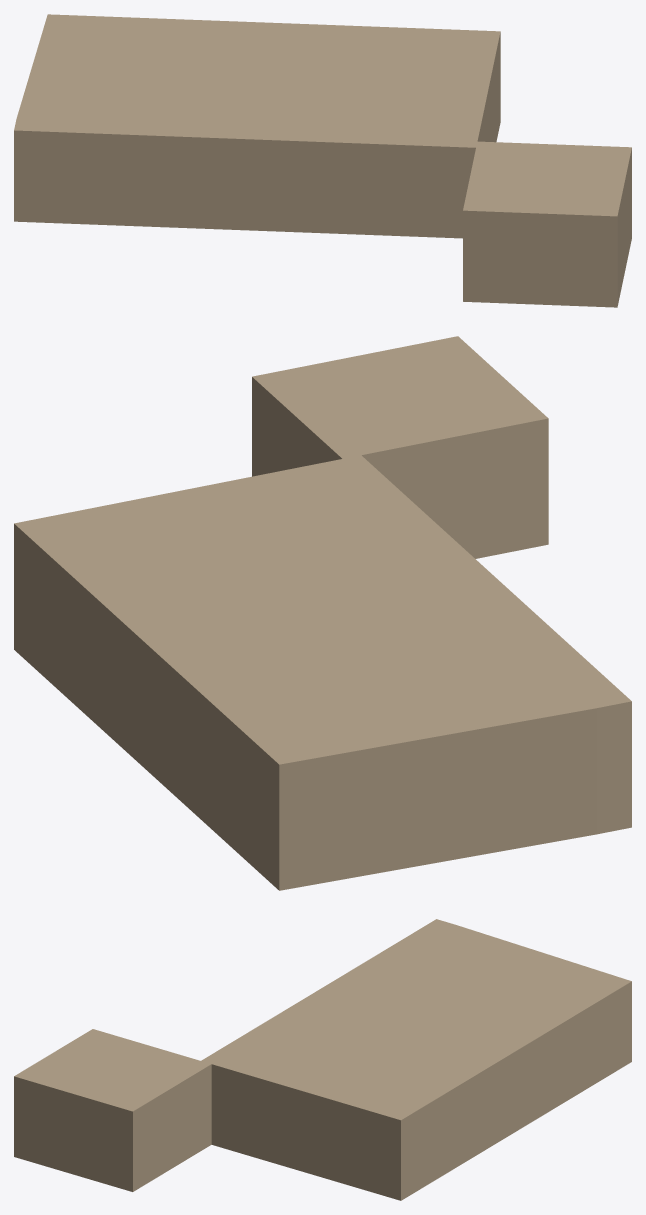
File: bld_49798375.dae
The picture shows the model from 3 angles, top to bottom: view 1: azimuth 30°, elevation 25°; view 2: azimuth 150°, elevation 25°; view 3: azimuth 270°, elevation 25°; orthographic projection. The views are drawn at different scales.
Parts seen in each view (by area): view 1: Howdens; view 2: Howdens; view 3: Howdens.
Boxes of the visible parts, x1,y1,x2,y2 form: Howdens: (14,14,631,307); Howdens: (14,336,631,890); Howdens: (14,919,631,1200).
Bounding box in the file's own units: 42.84 × 55.58 × 8.
